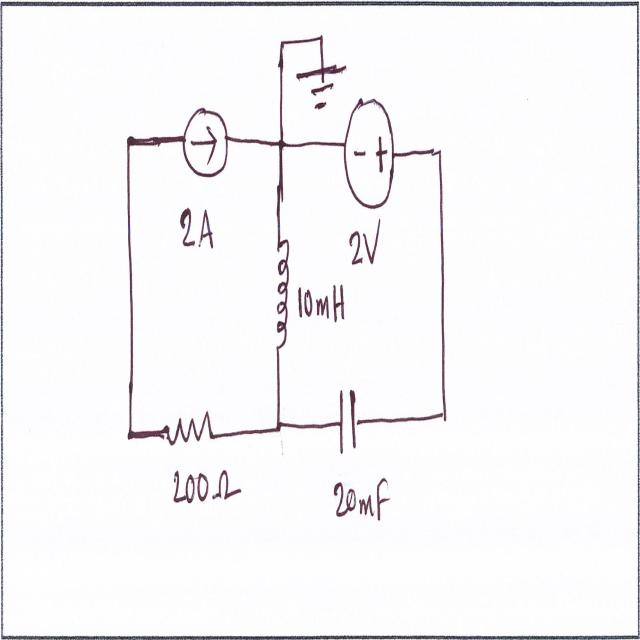capacitor: (334, 381, 362, 476)
current_source: (180, 106, 232, 182)
ground: (294, 54, 339, 114)
inductor: (268, 230, 290, 360)
resistor: (156, 410, 223, 462)
voltage_source: (339, 91, 400, 222)
